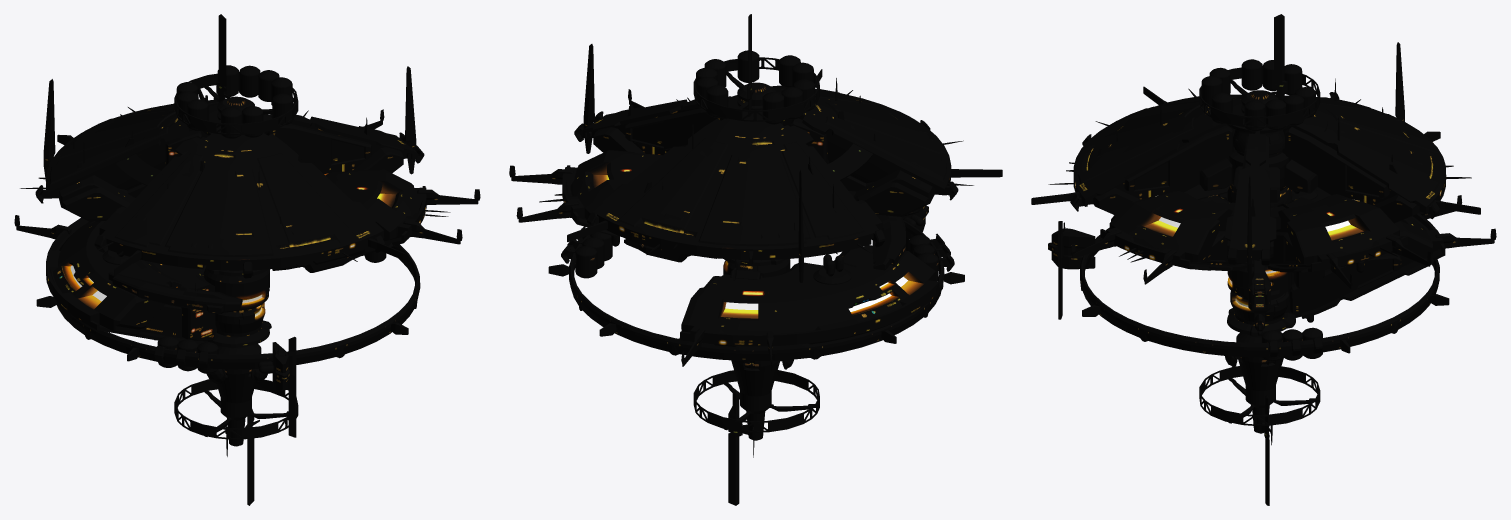
File: tr1_st_dock_05.glb
3 renders of one model, left to right at view 1: azimuth 30°, elevation 25°; view 2: azimuth 150°, elevation 25°; view 3: azimuth 270°, elevation 25°, orthographic. The views are drawn at different scales.
Parts seen in each view (by area): view 1: tr1_station_05_base, tr1_station_05_parts; view 2: tr1_station_05_base, tr1_station_05_parts; view 3: tr1_station_05_base, tr1_station_05_parts.
Part boxes in pixels (left/top/right/bottom): tr1_station_05_base: left=46, top=97, right=426, bottom=445; tr1_station_05_parts: left=14, top=14, right=480, bottom=505; tr1_station_05_base: left=562, top=82, right=951, bottom=440; tr1_station_05_parts: left=509, top=14, right=1002, bottom=505; tr1_station_05_base: left=1073, top=90, right=1446, bottom=432; tr1_station_05_parts: left=1031, top=14, right=1496, bottom=505.
Bounding box in the file's own units: 81.97 × 102 × 89.5.
3 materials, 3 textured.
